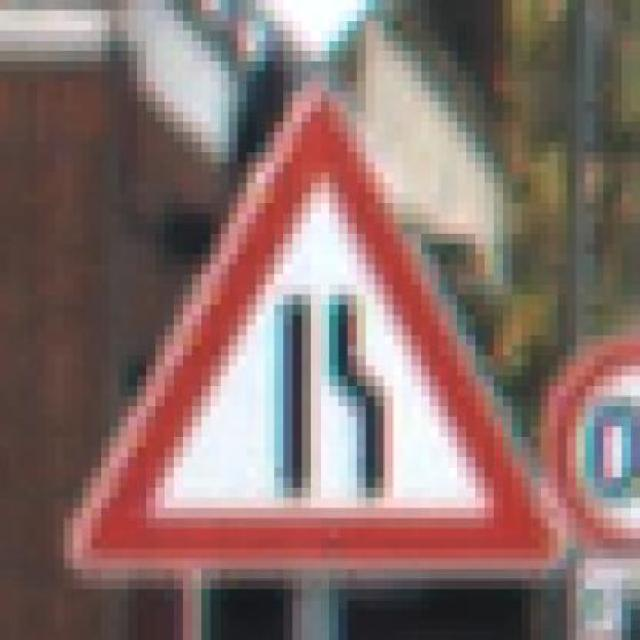-Road narrows on right: (45, 61, 567, 579)
